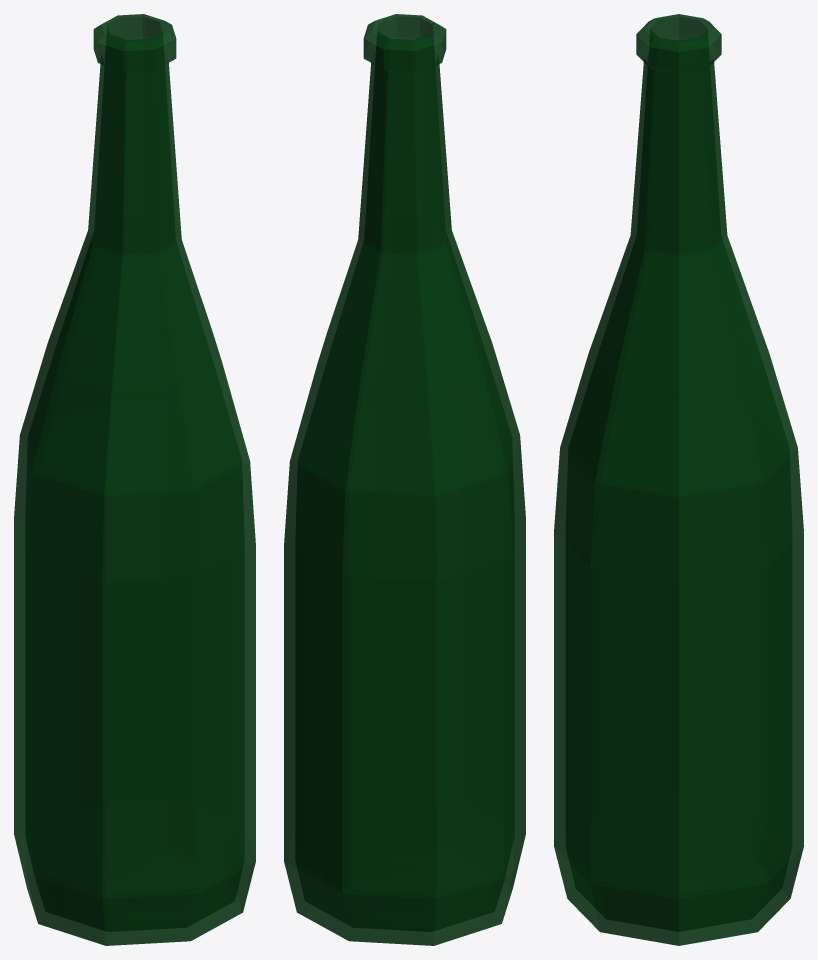
The model's file is bin_mock.fbx.
The picture shows the model from 3 angles, left to right: view 1: azimuth 30°, elevation 25°; view 2: azimuth 150°, elevation 25°; view 3: azimuth 270°, elevation 25°; orthographic projection.
Parts seen in each view (by area): view 1: pCylinder1; view 2: pCylinder1; view 3: pCylinder1.
Boxes of the visible parts, x1=… form: pCylinder1: x1=14, y1=14, x2=255, y2=945; pCylinder1: x1=284, y1=14, x2=525, y2=945; pCylinder1: x1=554, y1=14, x2=803, y2=945.
Size of the model in its own units: 2.47 by 9.48 by 2.47.
